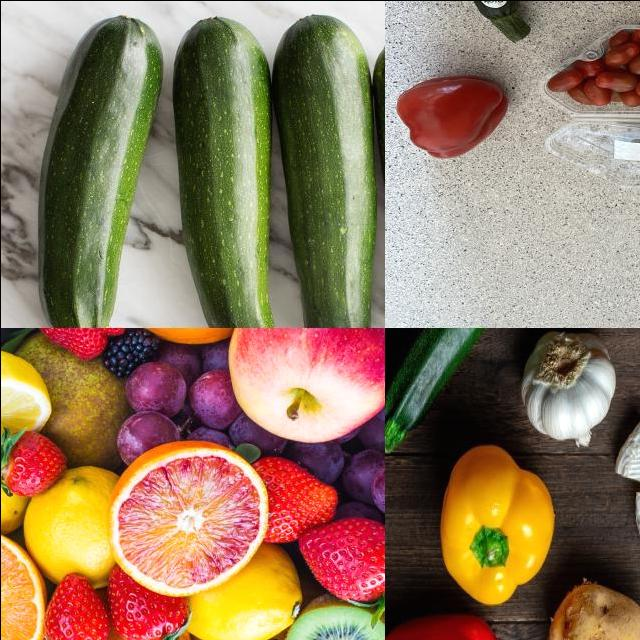bell_pepper: (389, 65, 513, 164)
tomato: (528, 25, 640, 181)
zucchini: (38, 16, 159, 328), (177, 7, 283, 328), (281, 17, 369, 328), (421, 1, 543, 49)
